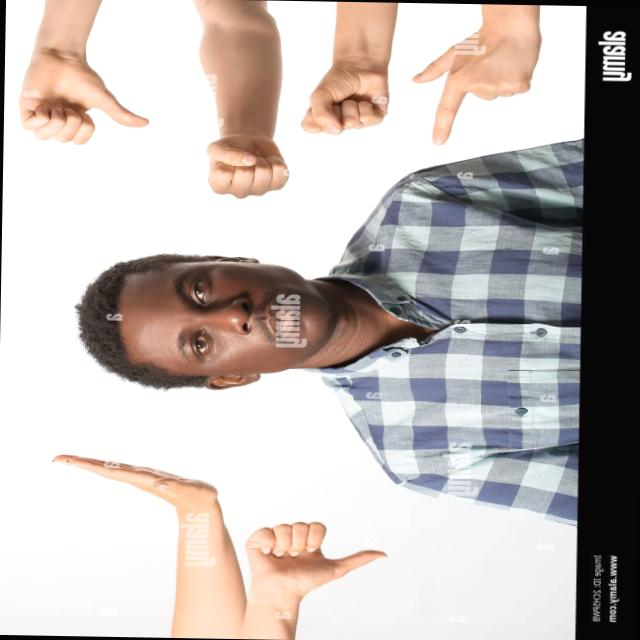Hand: (408, 28, 546, 146), (13, 43, 156, 148), (39, 447, 226, 523), (240, 516, 394, 596), (300, 62, 390, 138), (197, 130, 292, 200)
